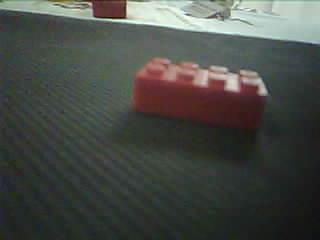lego: (131, 56, 270, 134), (91, 1, 127, 18)
